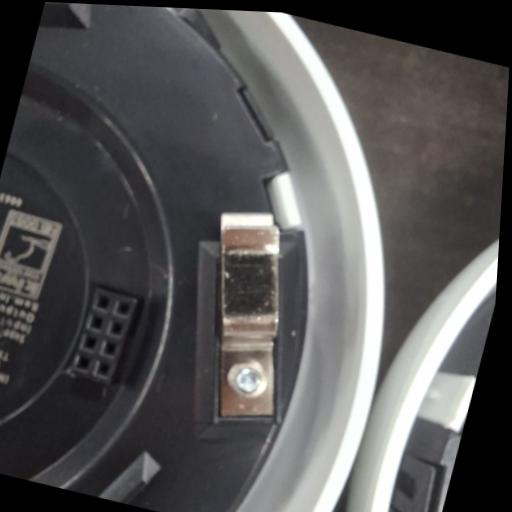yayli: (170, 199, 325, 432)
